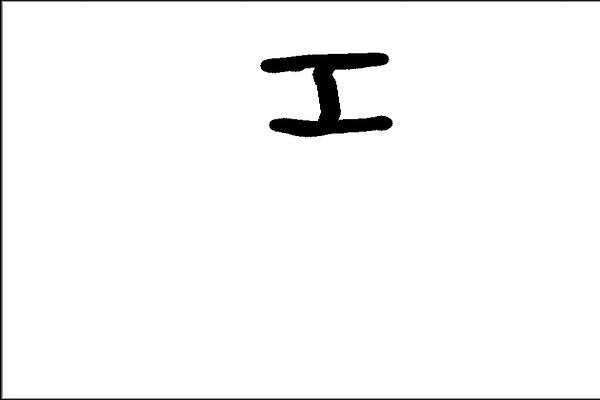i: (252, 37, 400, 138)
